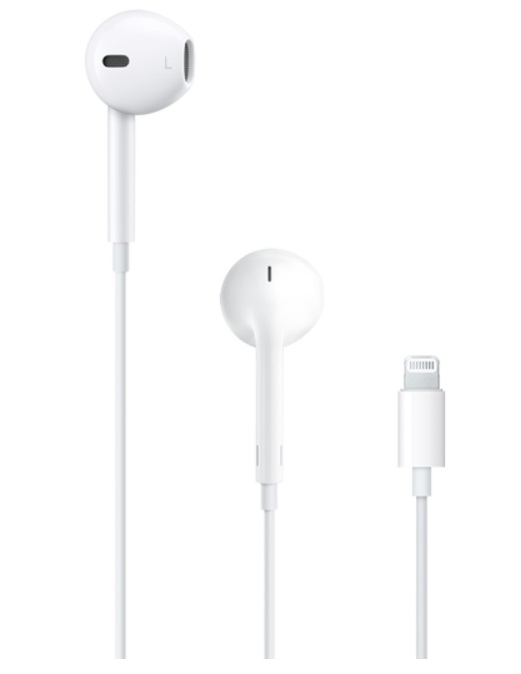White: (82, 7, 450, 660)
